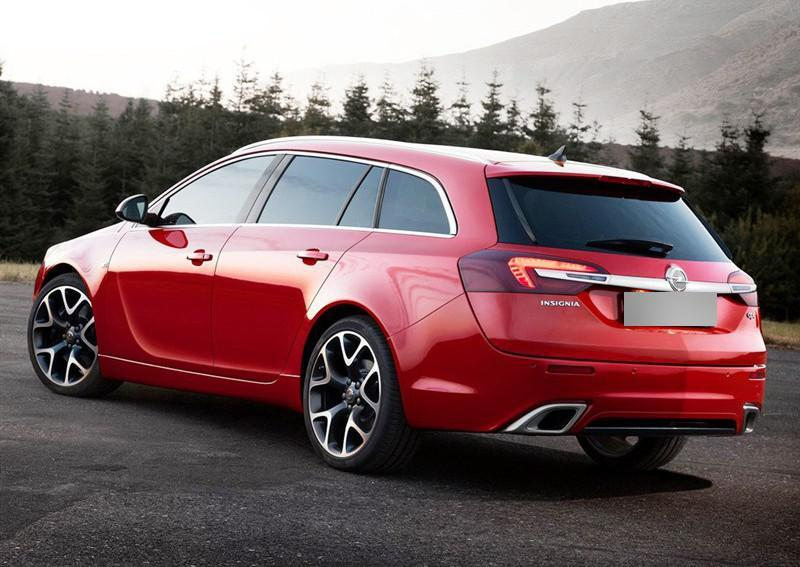Wagon: (28, 135, 767, 478)
